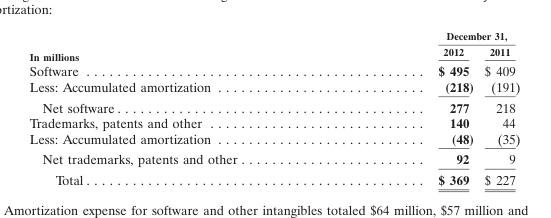table: (28, 29, 519, 187)
table column: (28, 29, 337, 187), (337, 29, 478, 187), (478, 29, 519, 187)
table column header: (28, 29, 519, 62)
table row: (28, 148, 519, 169), (28, 43, 519, 62), (28, 78, 519, 96), (28, 96, 519, 114), (28, 130, 519, 148), (28, 169, 519, 187), (28, 62, 519, 78), (28, 114, 519, 130), (28, 29, 519, 43)
table spanning cell: (28, 29, 337, 62), (337, 29, 519, 43)
